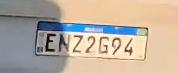Placa_mercosul_carro: (36, 21, 149, 61)
